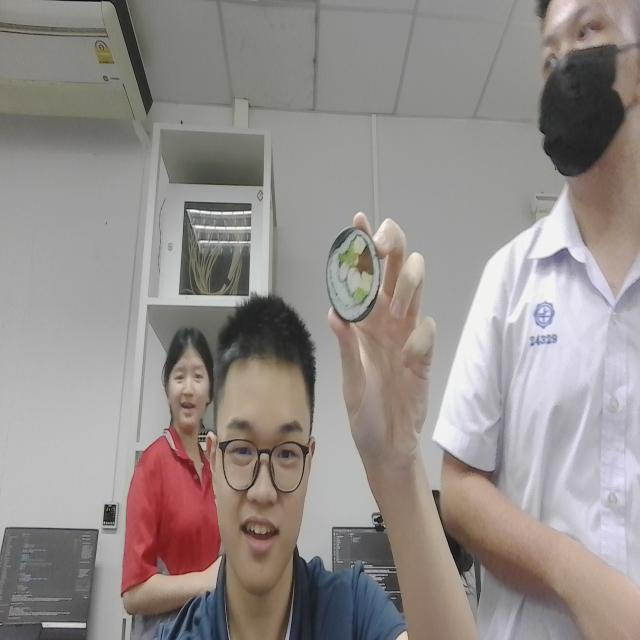sushi: (322, 215, 384, 336)
